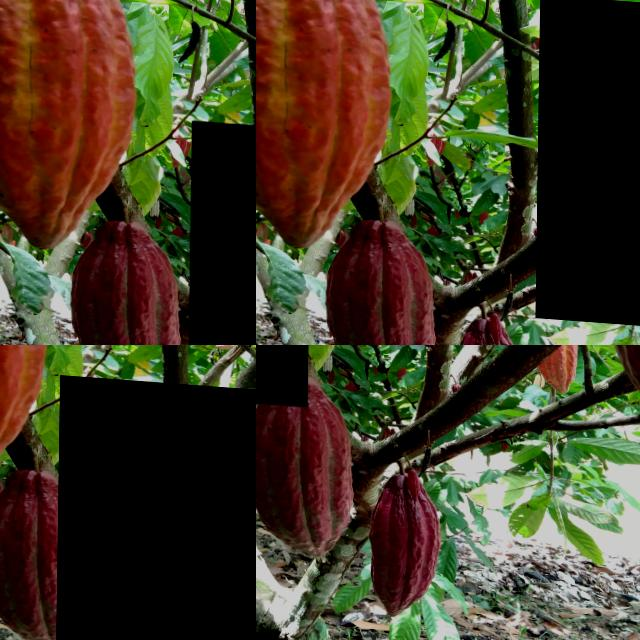Sana: (56, 371, 256, 640), (536, 0, 640, 324), (256, 374, 356, 558), (190, 117, 256, 345), (364, 463, 448, 615), (541, 345, 577, 392)
